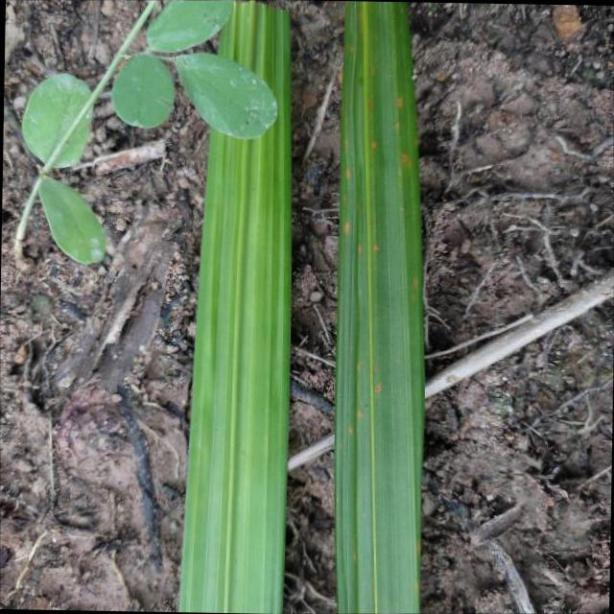nitrogen: (182, 0, 291, 614), (336, 0, 422, 614)
